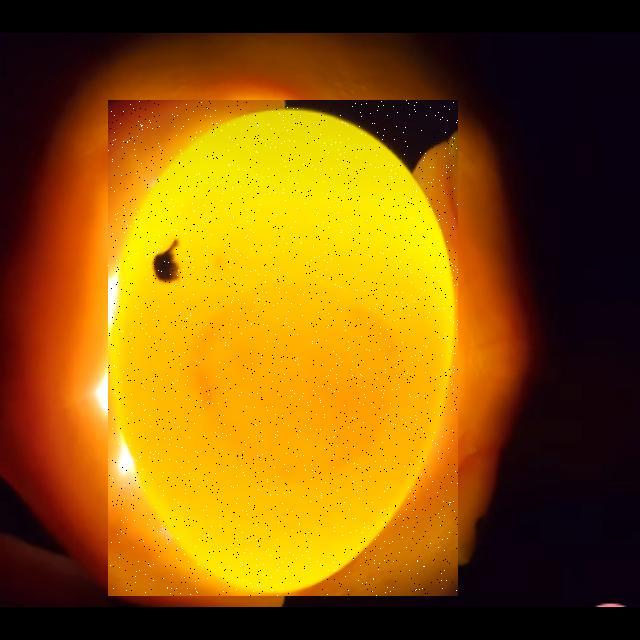Infertile: (108, 100, 458, 596)
